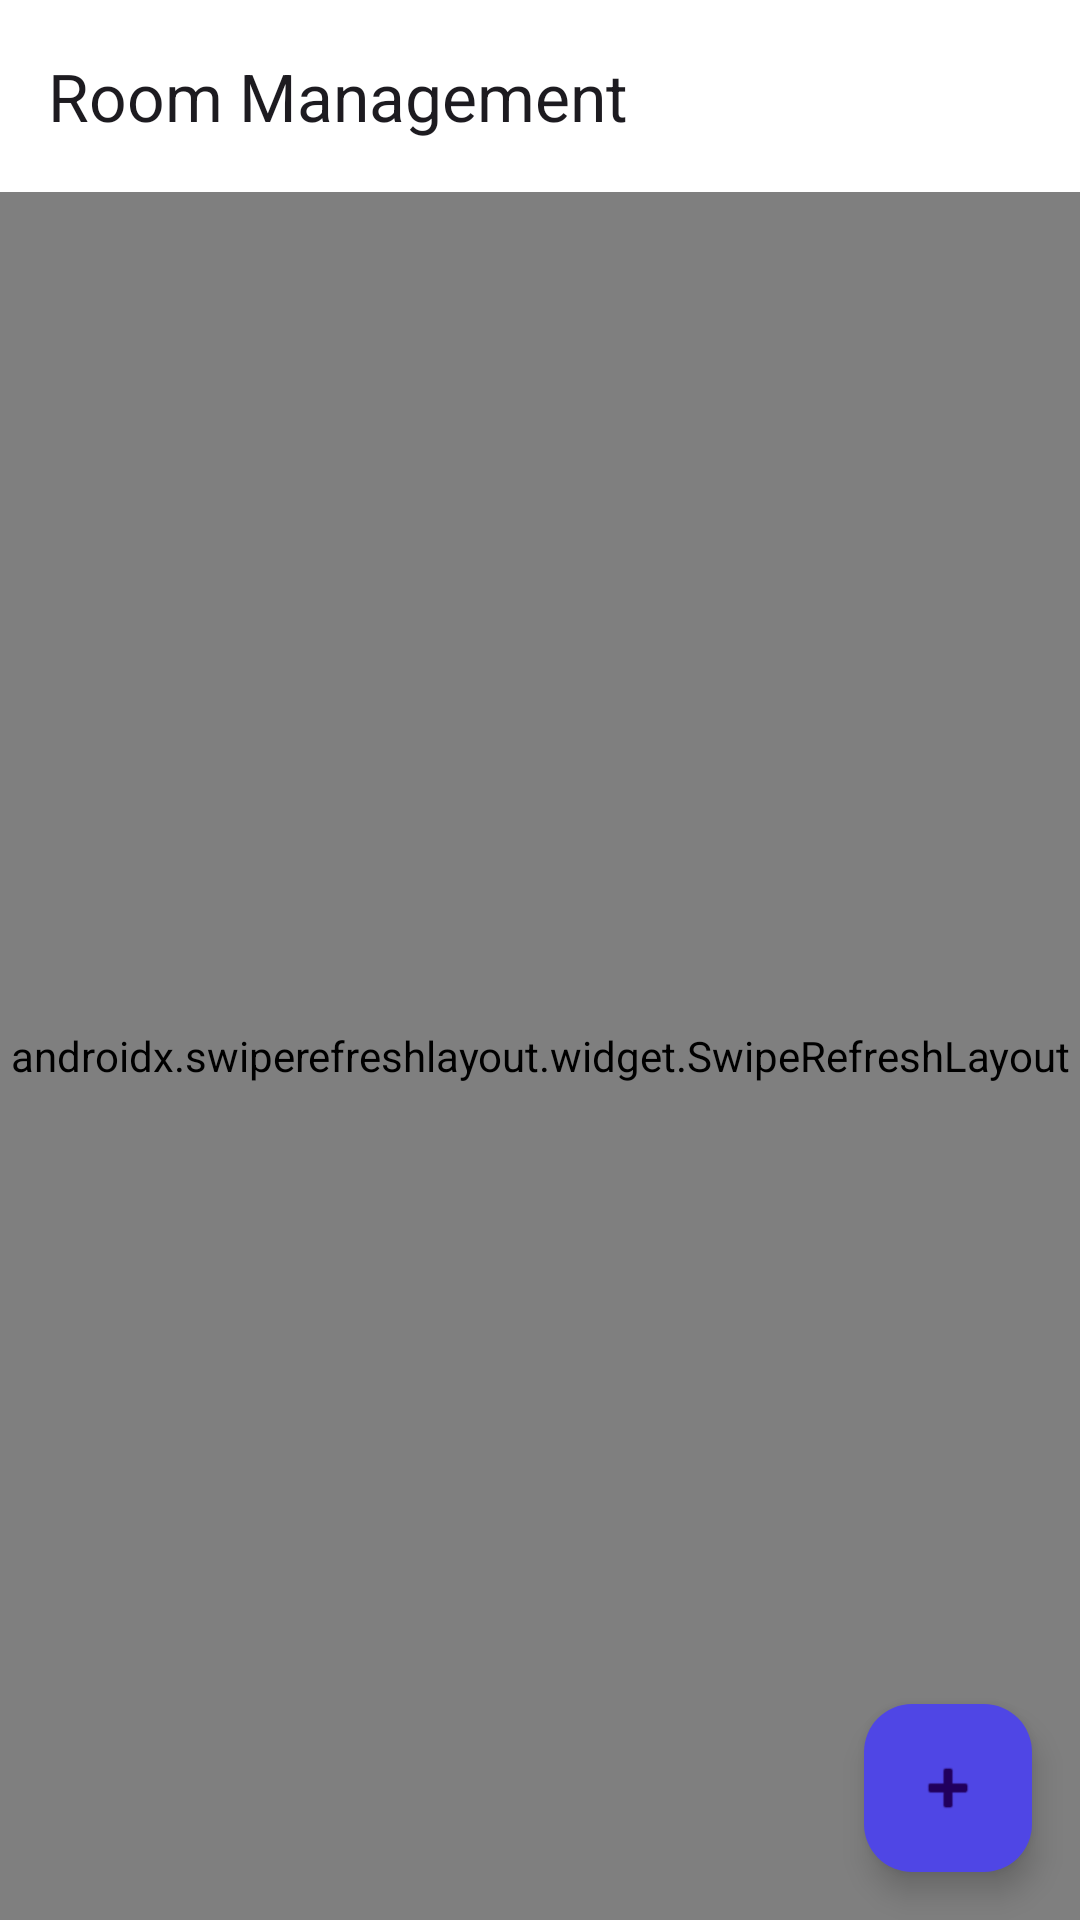

Screen size 1080*1920. Icon name, then its center in pixels as (x,y):
Add room: (948,1788)
